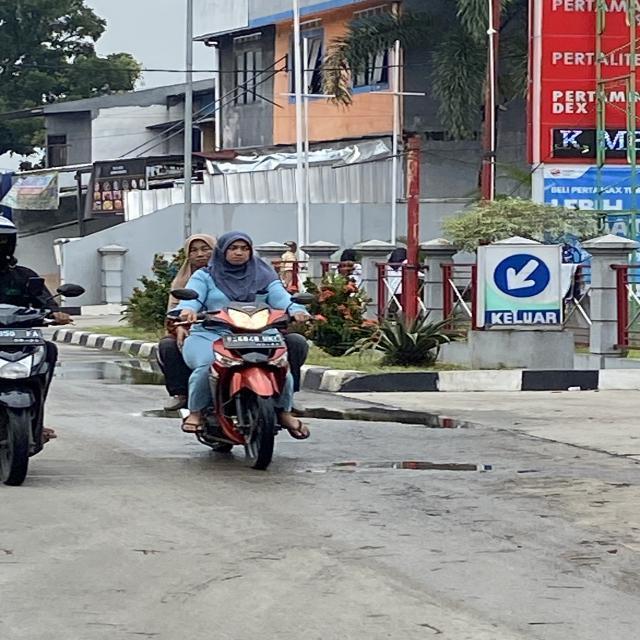Helmet: (0, 216, 16, 265)
Number Plate: (223, 334, 284, 349), (0, 328, 43, 344)
Rearview Mirror: (56, 283, 84, 297), (26, 277, 44, 297), (171, 288, 197, 300), (291, 292, 314, 305)
